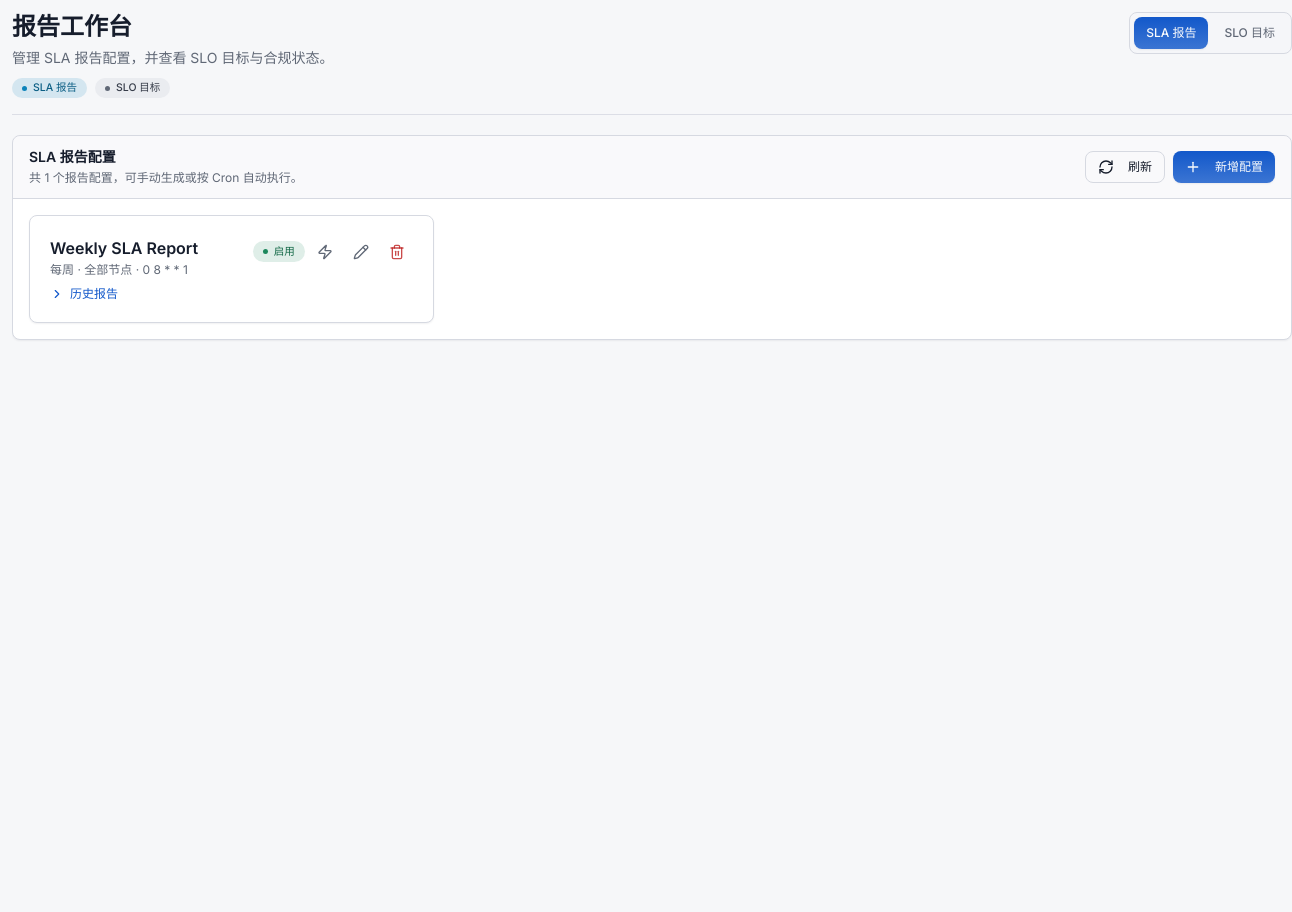
Scenario: ReportsPage › recovery objectives in expanded report row › renders null/false as Unknown, Non-compliant with insufficient evidence, and null/null as Unknown, Not assessed
Expected: the text "Weekly SLA Report" is shown, top-left (50, 236), bottom-right (198, 260)
Click the button "历史报告" at [84, 294], box top-left (50, 286), bottom-right (118, 302)
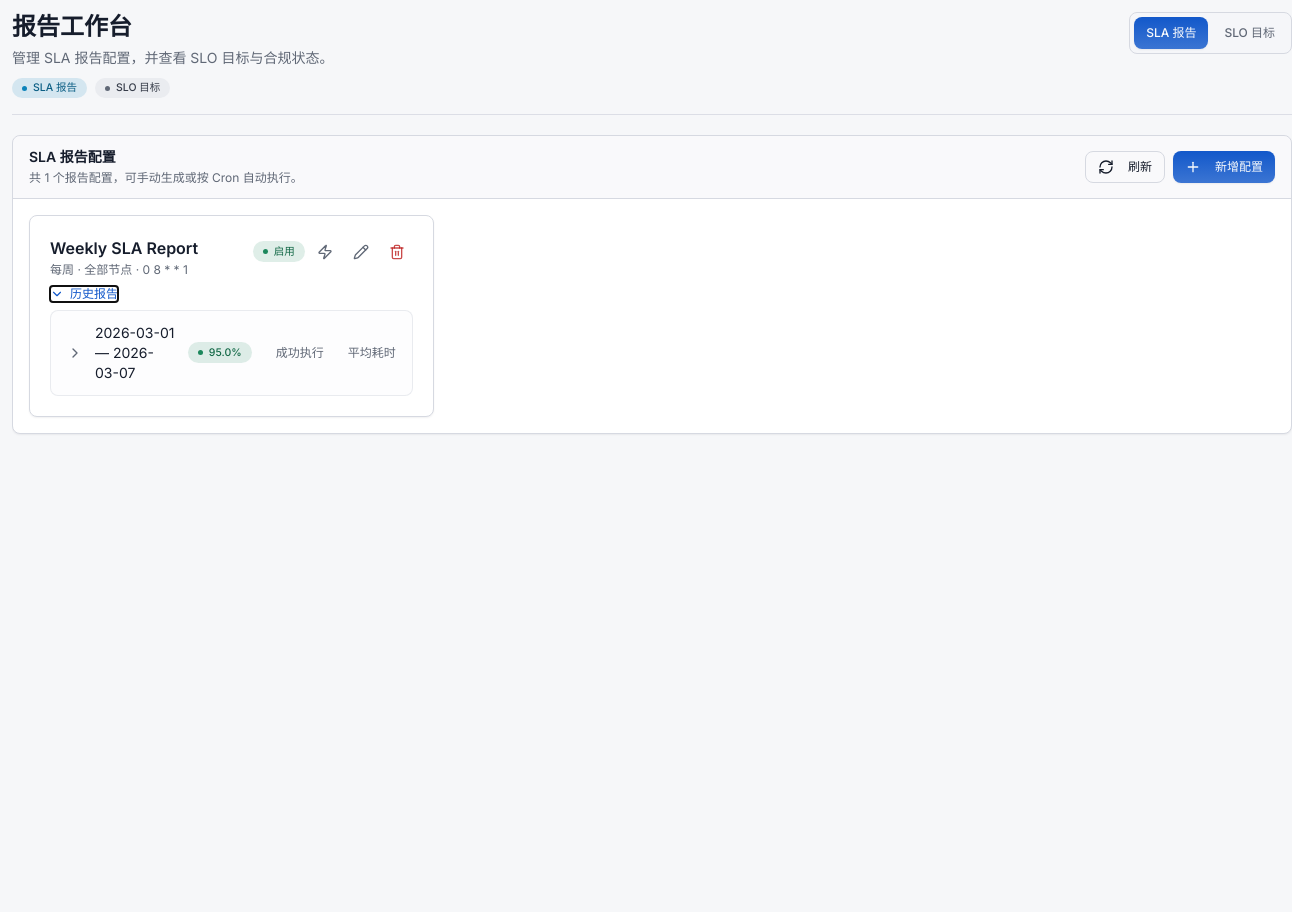
Click the button "2026-03-01 — 2026-03-07 95.0% 成功执行 平均耗时" at [231, 352], box top-left (51, 310), bottom-right (412, 394)
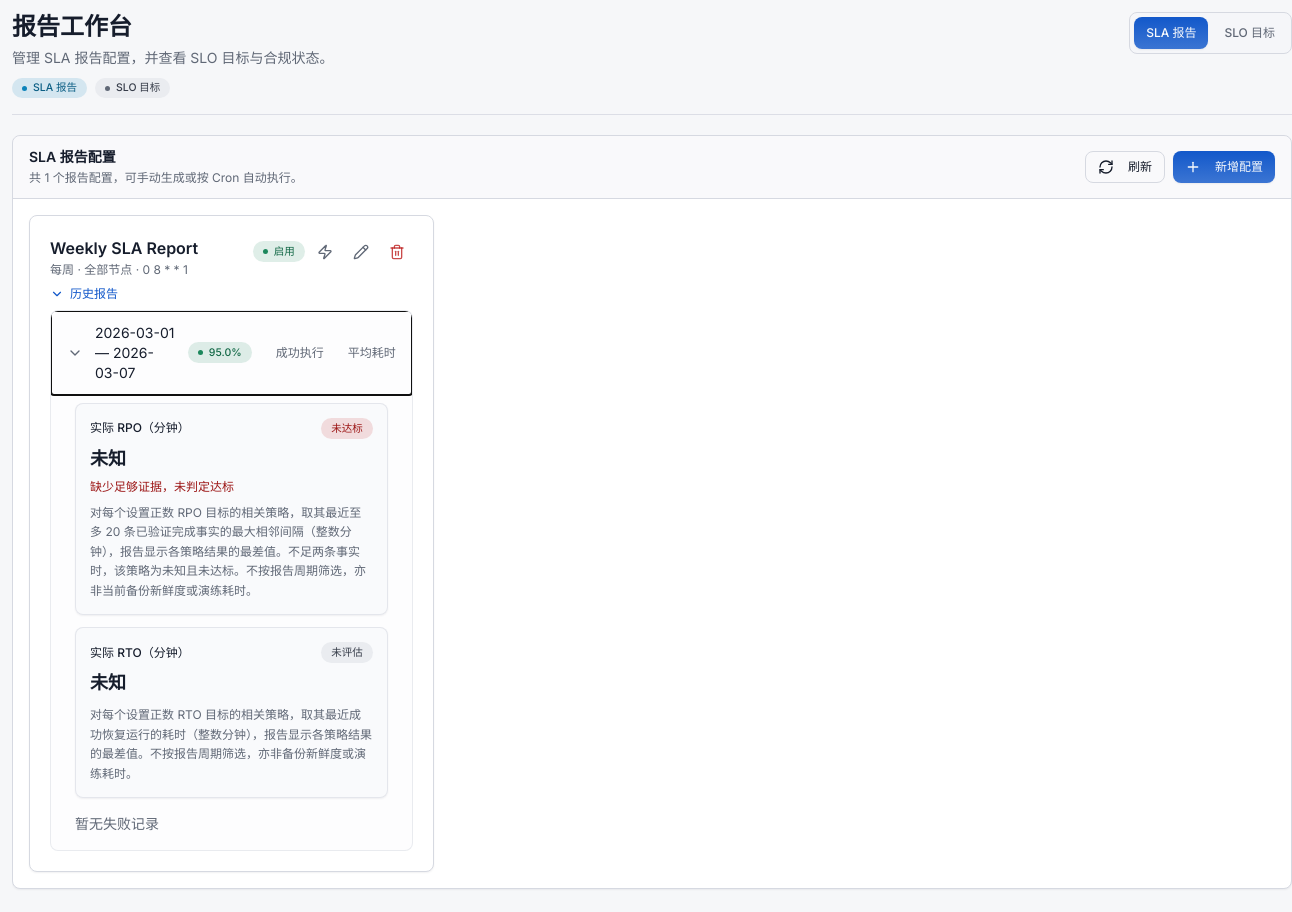
Result: the text "未知" below "实际 RPO（分钟）" is shown at top-left (90, 448), bottom-right (126, 468)
Result: the text "未达标" is shown at top-left (321, 418), bottom-right (373, 438)
Result: the text "缺少足够证据，未判定达标" is shown at top-left (90, 478), bottom-right (234, 494)
